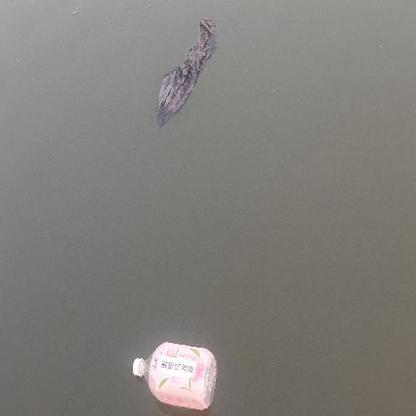plastic bag: (157, 18, 216, 123)
plastic bottle: (131, 341, 216, 411)
